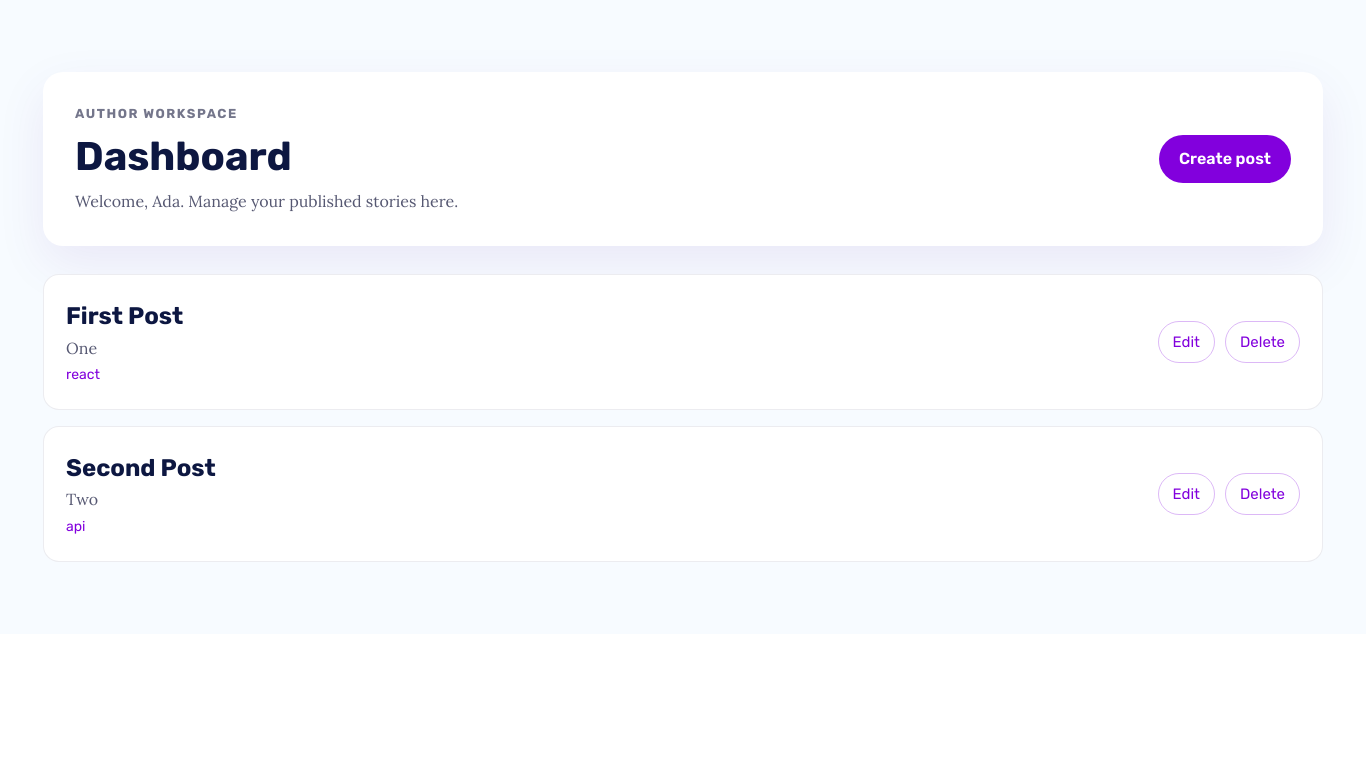
Test: DashboardPage workflows › shows delete failures and keeps the post in place
The image size is (1366, 768).
Check: the link "First Post" is shown, box [66, 302, 183, 330]
Click the button "Delete" in the row of "First Post".
click(1262, 342)  # box [1225, 321, 1300, 363]
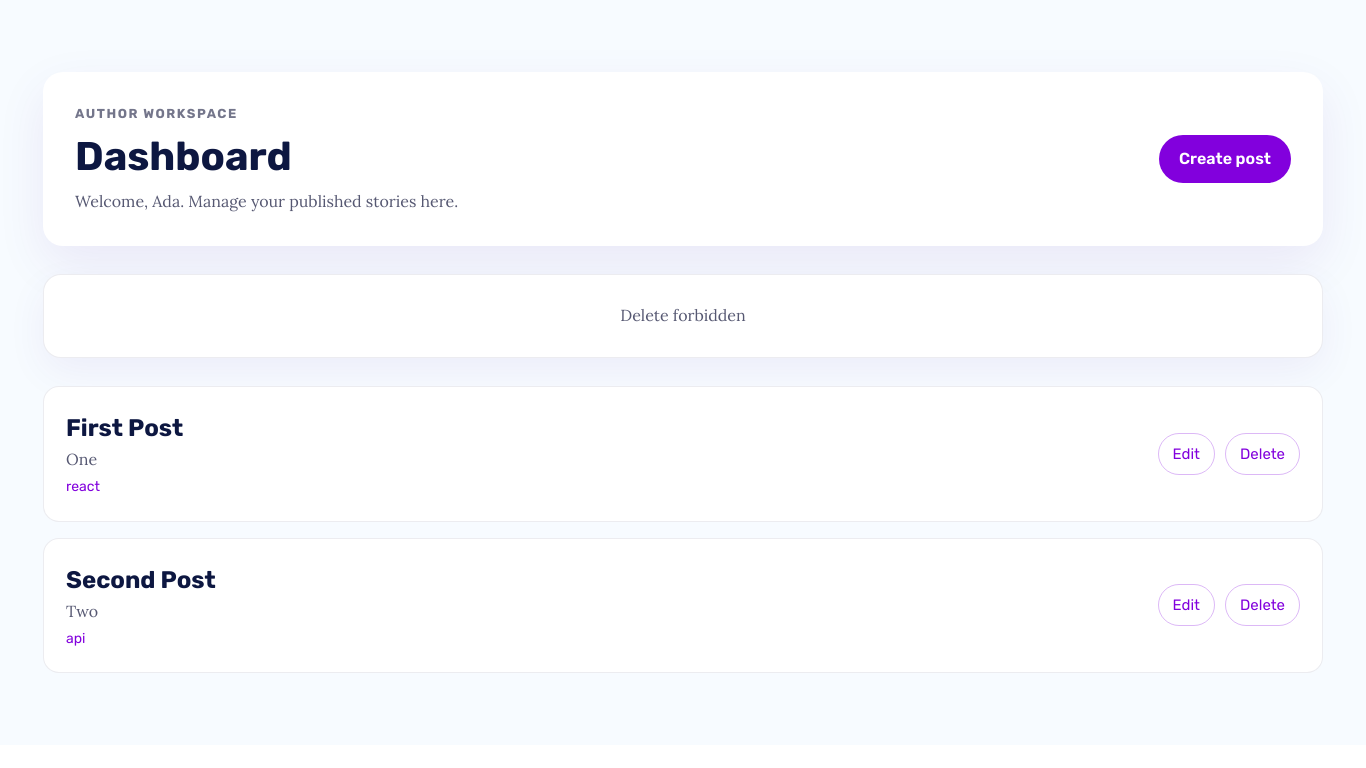
Check: the link "First Post" is shown, box [66, 414, 183, 442]
Check: the message reads "Delete forbidden", box [620, 305, 746, 325]
